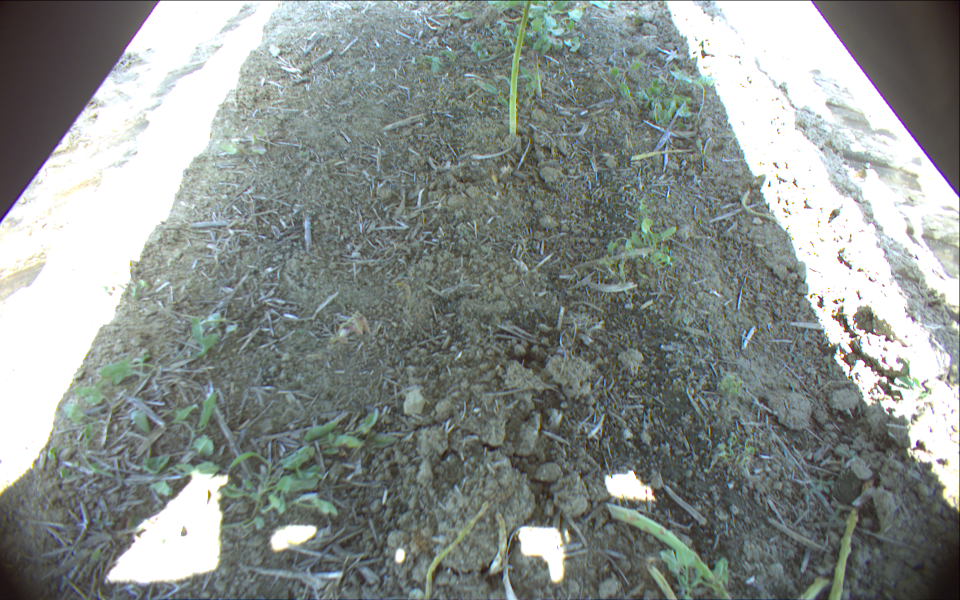aspa: (605, 501, 729, 600), (423, 500, 488, 600), (509, 1, 532, 135), (828, 506, 860, 600), (494, 513, 516, 600), (740, 187, 776, 224), (646, 565, 678, 600), (629, 147, 694, 163), (802, 574, 826, 600), (533, 46, 543, 101)
